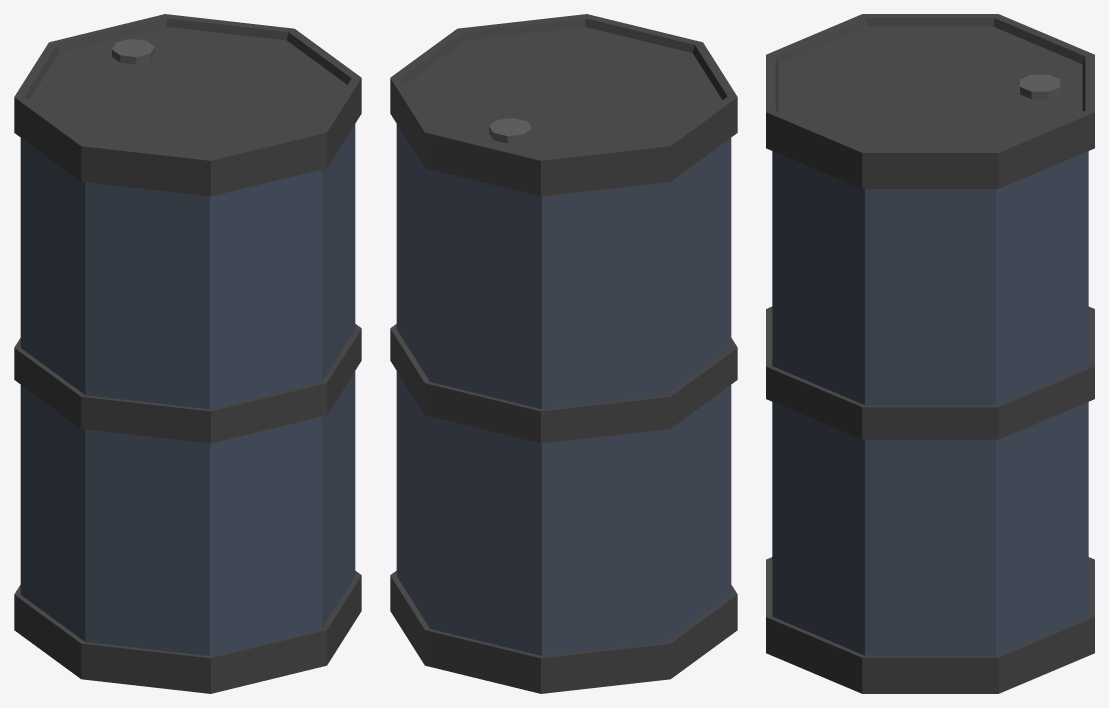
Rendered from SmallMetalBarrel1-2.fbx.
3 views of the same model, side by side, from view 1: azimuth 30°, elevation 25°; view 2: azimuth 150°, elevation 25°; view 3: azimuth 270°, elevation 25° (orthographic).
Parts seen in each view (by area): view 1: MetalBarrel.001_LOD0; view 2: MetalBarrel.001_LOD0; view 3: MetalBarrel.001_LOD0.
Boxes of the visible parts, left/top/right/bottom form: MetalBarrel.001_LOD0: left=14, top=14, right=361, bottom=693; MetalBarrel.001_LOD0: left=390, top=14, right=737, bottom=693; MetalBarrel.001_LOD0: left=766, top=14, right=1094, bottom=693.
Size of what is drawn, in the model's own units: 141 by 257 by 141.
Materials: 1 (1 with a texture image).
